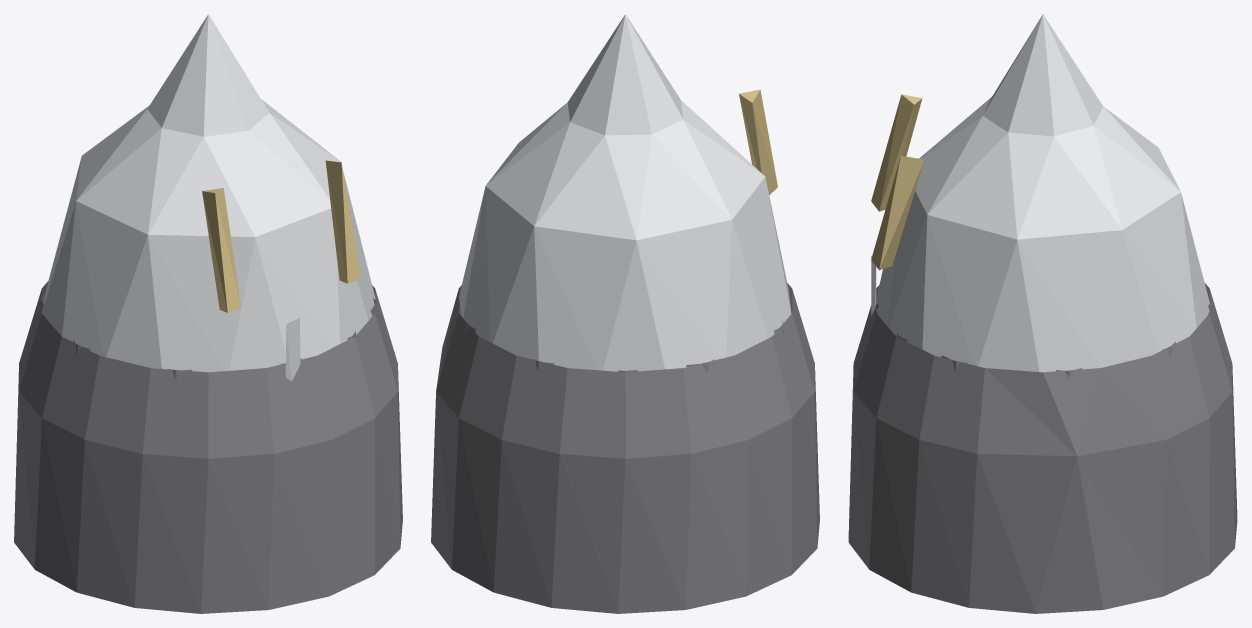
The model's file is persian_kulah_khud_lod1.glb.
3 renders of one model, left to right at view 1: azimuth 30°, elevation 25°; view 2: azimuth 150°, elevation 25°; view 3: azimuth 270°, elevation 25°, orthographic.
Parts seen in each view (by area): view 1: m; view 2: m; view 3: m.
Part boxes in pixels (x1,y1,x2,y2): m: [14, 14, 402, 613]; m: [431, 14, 819, 613]; m: [848, 14, 1237, 613].
Bounding box in the file's own units: 0.255 × 0.3707 × 0.2528.
